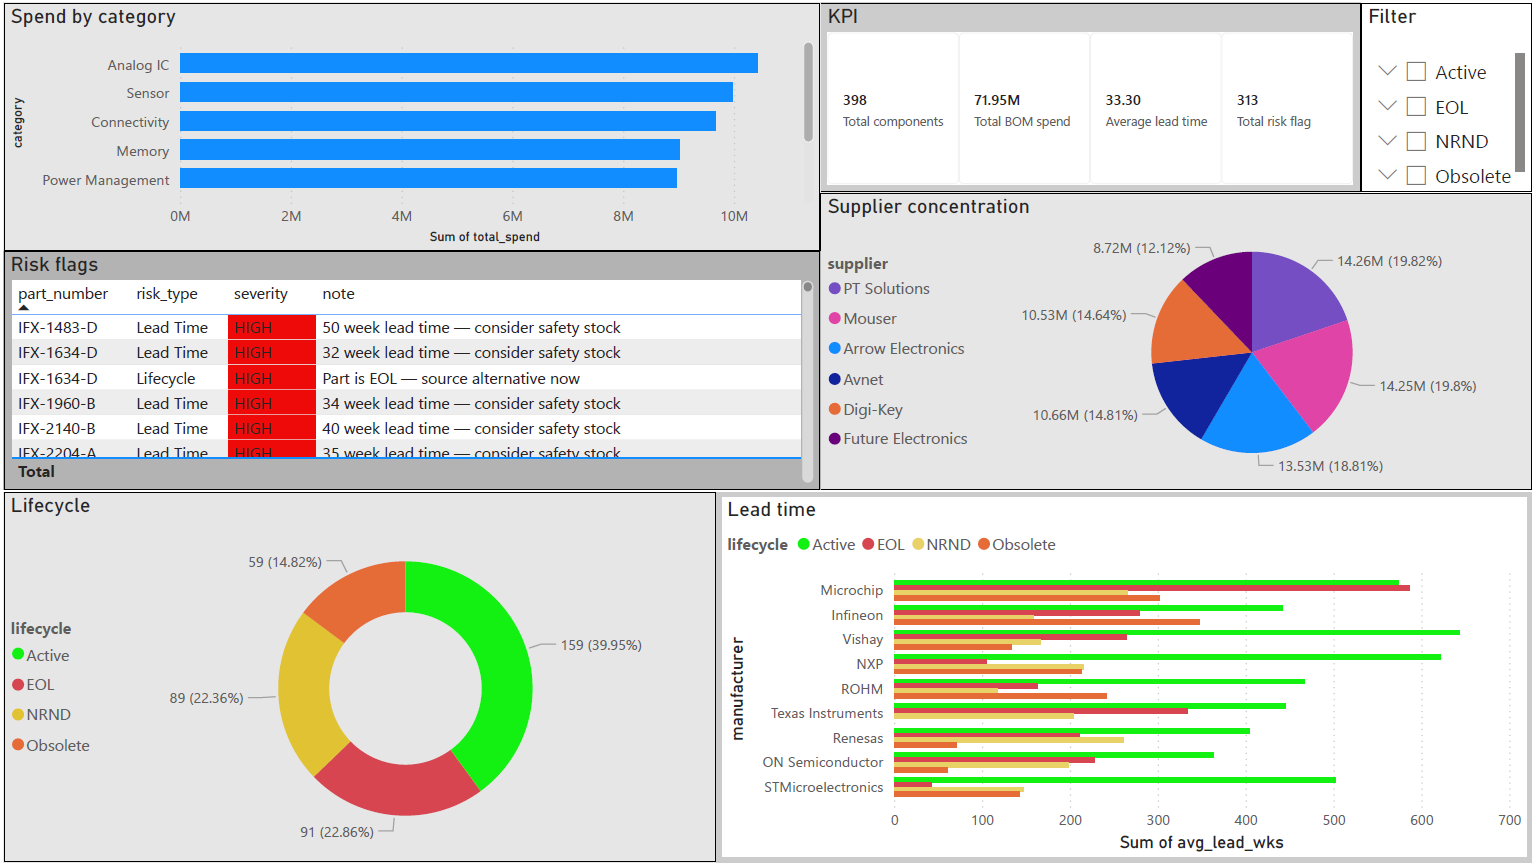

This screenshot's page, from the dashboard's own definition file:
{"tool":"powerbi","page":{"name":"Page 1","canvas":[1280,720],"ordinal":0},"visuals":[{"type":"cardVisual","title":"KPI","fields":{"Data":["Sum(bom_aggregated.part_count)","Sum(bom_aggregated.total_spend)","Avg(bom_aggregated.avg_lead_wks)","CountNonNull(risk_flags.part_number)"]},"box":[683.6,0,453.7,159],"z":0},{"type":"clusteredBarChart","title":"Spend by category","fields":{"Category":["bom_aggregated.category"],"Y":["Sum(bom_aggregated.total_spend)"]},"box":[0,0,683.6,207.9],"z":1000},{"type":"donutChart","title":"Lifecycle","fields":{"Category":["bom_aggregated.lifecycle"],"Y":["Sum(bom_aggregated.part_count)"]},"box":[0,409.6,596.7,310.6],"z":2000},{"type":"pieChart","title":"Supplier concentration","fields":{"Category":["bom_aggregated.supplier"],"Y":["Sum(bom_aggregated.total_spend)"]},"box":[683.6,159,596.7,249.5],"z":3000},{"type":"tableEx","title":"Risk flags","fields":{"Values":["risk_flags.part_number","risk_flags.risk_type","risk_flags.severity","risk_flags.note"]},"box":[0,207.9,683.6,200.5],"z":4000},{"type":"clusteredBarChart","title":"Lead time","fields":{"Category":["bom_aggregated.manufacturer"],"Y":["Sum(bom_aggregated.avg_lead_wks)"],"Series":["bom_aggregated.lifecycle"]},"box":[596.7,409.6,683.6,310.6],"z":5000},{"type":"slicer","title":"Filter","fields":{"Values":["bom_aggregated.lifecycle","bom_aggregated.category","bom_aggregated.supplier"]},"box":[1137.2,0,143.1,159],"z":6000}]}

Visuals, with their boxes in screenshot pixels (x1, y1, x2, y2), scaled from the page's 1280x720 canvas onto the 1536x866 screenshot:
"KPI" cardVisual: bbox=[820, 0, 1365, 191]
"Spend by category" clusteredBarChart: bbox=[0, 0, 820, 250]
"Lifecycle" donutChart: bbox=[0, 493, 716, 865]
"Supplier concentration" pieChart: bbox=[820, 191, 1535, 491]
"Risk flags" tableEx: bbox=[0, 250, 820, 491]
"Lead time" clusteredBarChart: bbox=[716, 493, 1535, 865]
"Filter" slicer: bbox=[1365, 0, 1535, 191]
